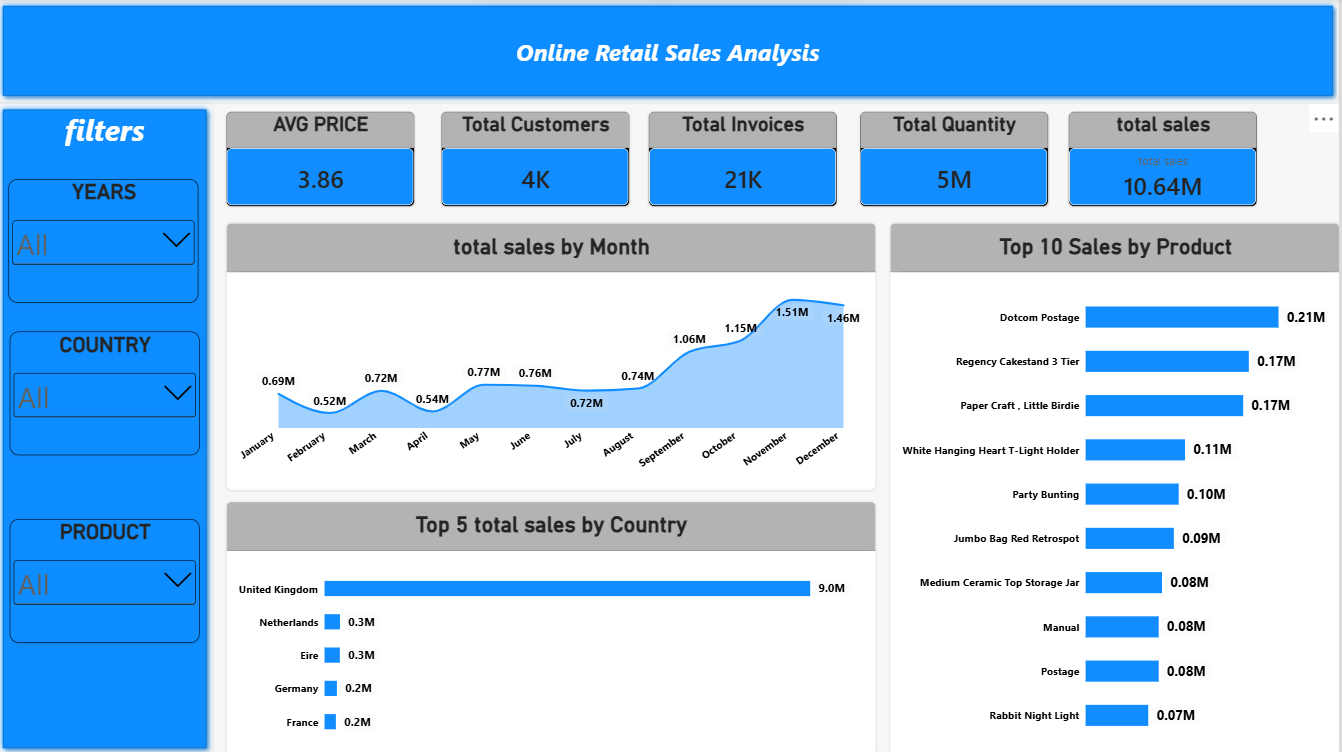

What the dashboard file says about the page in this screenshot:
{"tool":"powerbi","page":{"name":"Online Retail Sales Analysis.","canvas":[1920,1080],"ordinal":0},"visuals":[{"type":"shape","box":[0,0,1919.7,148.2],"z":0},{"type":"shape","box":[0,148.2,310.7,932.1],"z":1000},{"type":"cardVisual","title":"AVG PRICE","fields":{"Data":["dbo online_retail.Average Price"]},"box":[328.6,160.7,269.6,135.7],"z":2000},{"type":"cardVisual","title":"Total Customers","fields":{"Data":["dbo online_retail.Total Customers"]},"box":[635.7,160.7,269.6,135.7],"z":3000},{"type":"cardVisual","title":"Total Invoices","fields":{"Data":["dbo online_retail.Total Invoices"]},"box":[932.1,160.7,269.6,135.7],"z":4000},{"type":"cardVisual","title":"Total Quantity","fields":{"Data":["dbo online_retail.Total Quantity"]},"box":[1233.9,160.7,269.6,135.7],"z":5000},{"type":"cardVisual","title":"total sales","fields":{"Data":["dbo online_retail.total sales"]},"box":[1532.2,160.7,269.6,135.7],"z":6000},{"type":"lineChart","fields":{"Y":["dbo online_retail.total sales"],"Category":["dbo online_retail.InvoiceDate.Variation.Date Hierarchy.Year","dbo online_retail.InvoiceDate.Variation.Date Hierarchy.Month"]},"box":[328.6,319.6,928.6,382.1],"z":7000},{"type":"clusteredBarChart","title":"Top 10 Sales by Product","fields":{"Y":["dbo online_retail.total sales"],"Category":["dbo online_retail.Description"]},"box":[1276.2,319,644.3,761.6],"z":8000},{"type":"clusteredBarChart","title":"Top 5 total sales by Country","fields":{"Y":["dbo online_retail.total sales"],"Category":["dbo online_retail.Country"]},"box":[328.6,717.9,928.6,362.5],"z":9000},{"type":"slicer","title":"YEARS","fields":{"Values":["dbo online_retail.InvoiceDate.Variation.Date Hierarchy.Year"]},"box":[17.9,257.1,271.4,176.8],"z":10000},{"type":"slicer","title":"COUNTRY","fields":{"Values":["dbo online_retail.Country"]},"box":[19.6,475,271.4,176.8],"z":11000},{"type":"slicer","title":"PRODUCT","fields":{"Values":["dbo online_retail.Description"]},"box":[19.6,742.9,271.4,176.8],"z":12000}]}

Visuals, with their boxes in screenshot pixels (x1, y1, x2, y2), scaled from the page's 1920x1080 canvas onto the 1342x752 screenshot:
shape: [left=0, top=0, right=1341, bottom=103]
shape: [left=0, top=103, right=217, bottom=751]
"AVG PRICE" cardVisual: [left=230, top=112, right=418, bottom=206]
"Total Customers" cardVisual: [left=444, top=112, right=633, bottom=206]
"Total Invoices" cardVisual: [left=651, top=112, right=840, bottom=206]
"Total Quantity" cardVisual: [left=862, top=112, right=1051, bottom=206]
"total sales" cardVisual: [left=1071, top=112, right=1259, bottom=206]
lineChart - dbo online_retail.total sales x dbo online_retail.InvoiceDate.Variation.Date Hierarchy.Year: [left=230, top=223, right=879, bottom=489]
"Top 10 Sales by Product" clusteredBarChart: [left=892, top=222, right=1341, bottom=751]
"Top 5 total sales by Country" clusteredBarChart: [left=230, top=500, right=879, bottom=751]
"YEARS" slicer: [left=13, top=179, right=202, bottom=302]
"COUNTRY" slicer: [left=14, top=331, right=203, bottom=454]
"PRODUCT" slicer: [left=14, top=517, right=203, bottom=640]
